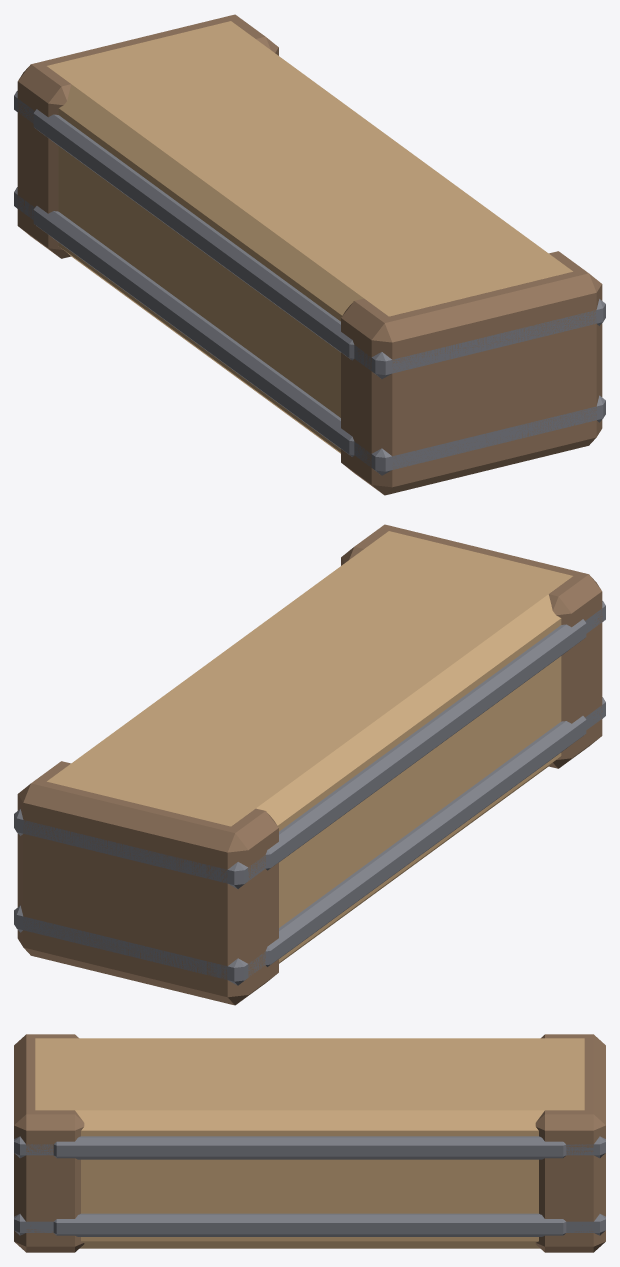
File: town_water_trough.glb
The picture shows the model from 3 angles, top to bottom: view 1: azimuth 30°, elevation 25°; view 2: azimuth 150°, elevation 25°; view 3: azimuth 270°, elevation 25°; orthographic projection. The views are drawn at different scales.
Parts seen in each view (by area): view 1: world; view 2: world; view 3: world.
Boxes of the visible parts, x1,y1,x2,y2 form: world: [14, 14, 605, 495]; world: [14, 524, 605, 1005]; world: [14, 1034, 605, 1252].
Size of the model in its own units: 0.7423 by 0.5156 by 2.
